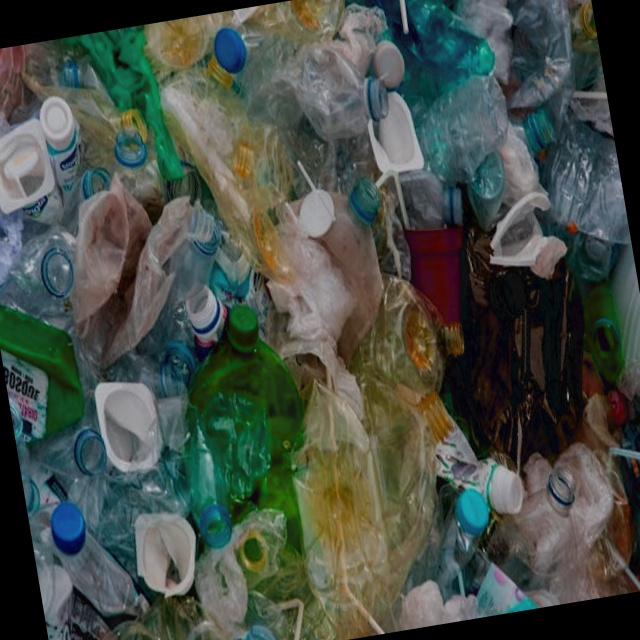algae_bloom: (176, 303, 330, 640)
floating_debris: (13, 13, 627, 627)
turbid_water: (0, 0, 473, 640)
